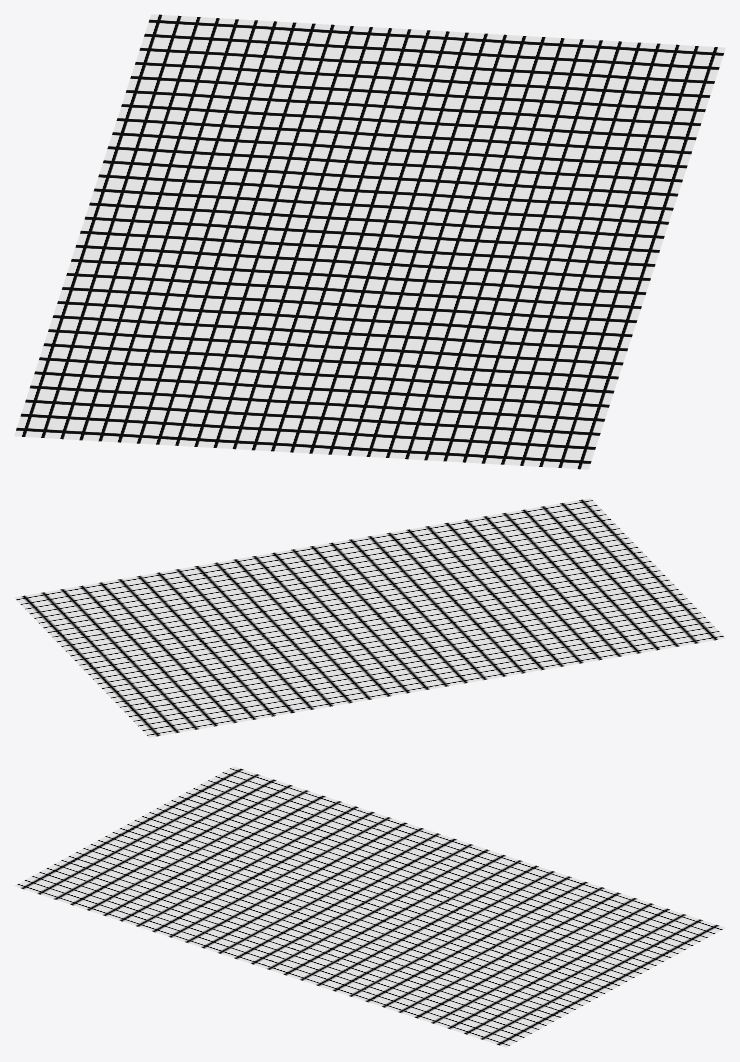
File: suelobaño2.fbx
The picture shows the model from 3 angles, top to bottom: view 1: azimuth 30°, elevation 25°; view 2: azimuth 150°, elevation 25°; view 3: azimuth 270°, elevation 25°; orthographic projection. The views are drawn at different scales.
Parts seen in each view (by area): view 1: Plane001; view 2: Plane001; view 3: Plane001.
Boxes of the visible parts, left/top/right/bottom form: Plane001: left=14, top=14, right=725, bottom=469; Plane001: left=14, top=498, right=725, bottom=737; Plane001: left=14, top=766, right=725, bottom=1047.
Bounding box in the file's own units: 14075 × 9.22e-13 × 15064.
Materials: 1 (1 with a texture image).
